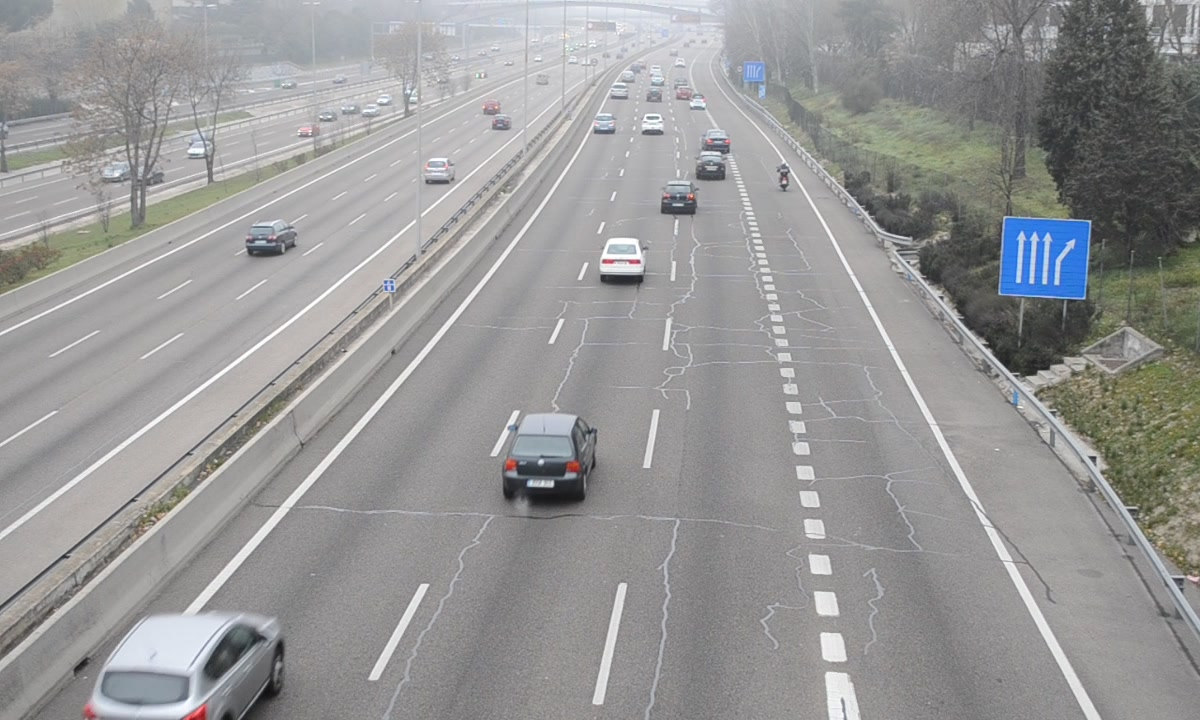car: (90, 611, 284, 720), (504, 413, 598, 498), (599, 237, 644, 279), (661, 180, 699, 215), (695, 151, 727, 182), (702, 128, 732, 153), (639, 112, 666, 136), (592, 111, 617, 133)
motorcycle: (775, 161, 792, 194)
